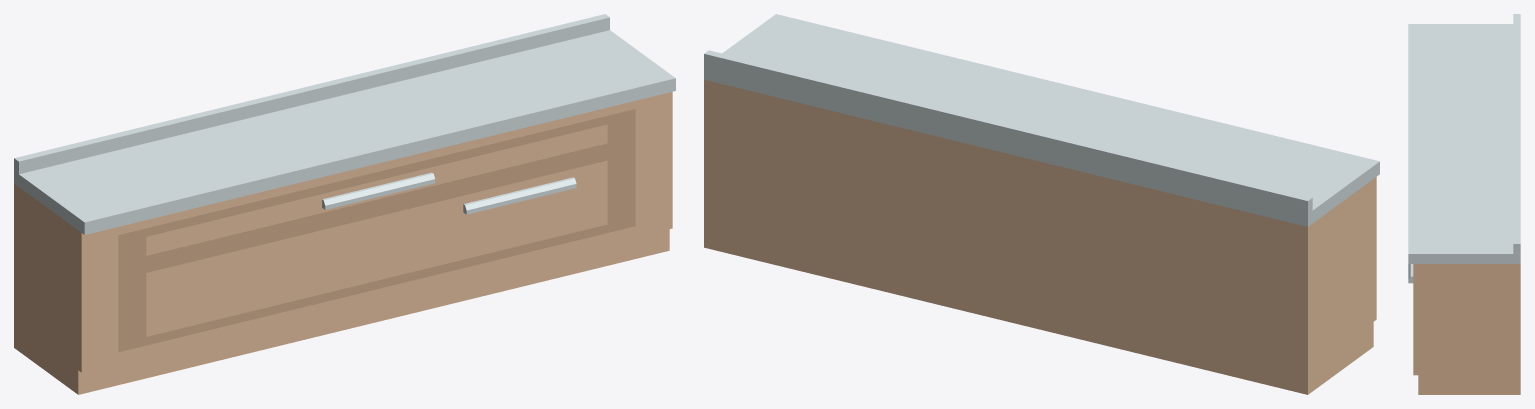
Rendered from kk-kitchenCabinetDrawer-run.glb.
The picture shows the model from 3 angles, left to right: view 1: azimuth 30°, elevation 25°; view 2: azimuth 150°, elevation 25°; view 3: azimuth 270°, elevation 25°; orthographic projection. The views are drawn at different scales.
Visible parts, largest first — view 1: kitchenCabinetDrawer(Clone), door; view 2: kitchenCabinetDrawer(Clone); view 3: kitchenCabinetDrawer(Clone).
Boxes of the visible parts, <box> form: kitchenCabinetDrawer(Clone): <box>14,14,675,394</box>; door: <box>118,109,635,352</box>; kitchenCabinetDrawer(Clone): <box>704,14,1379,394</box>; kitchenCabinetDrawer(Clone): <box>1408,14,1520,394</box>.
Bounding box in the file's own units: 1 × 0.3067 × 0.2067.
